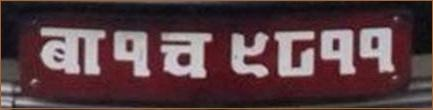1: (109, 25, 155, 82), (357, 25, 400, 80), (318, 26, 359, 80)
8: (273, 27, 318, 80)
9: (227, 27, 273, 80)
ba: (36, 21, 109, 80)
cha: (154, 28, 216, 82)
